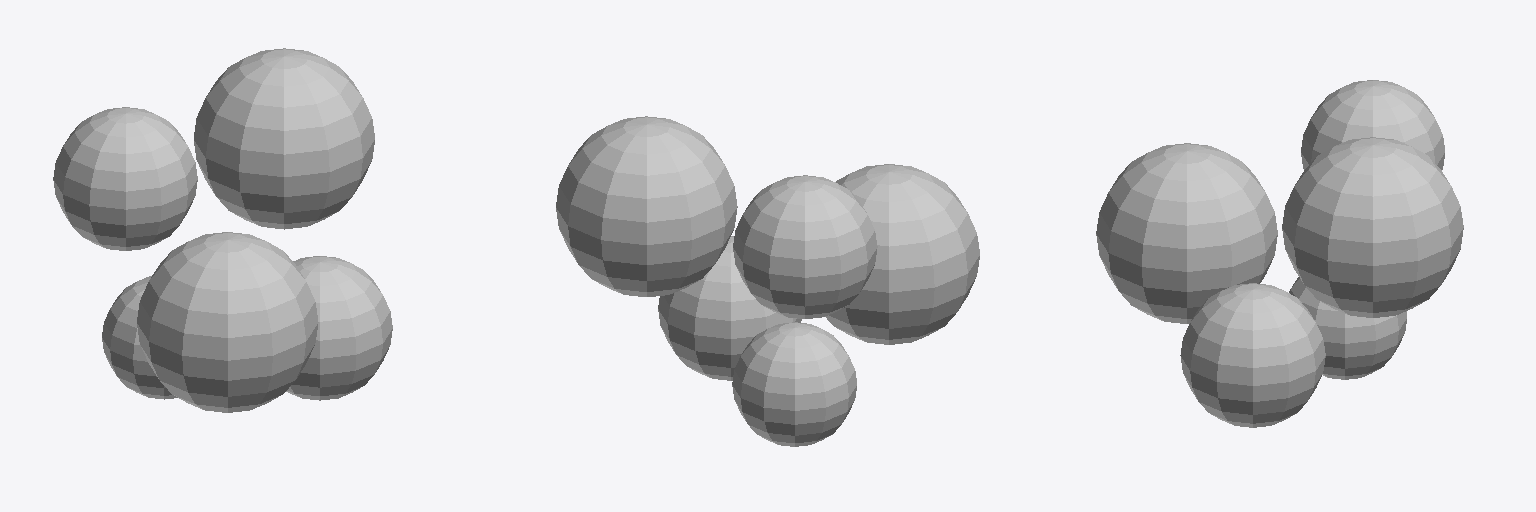
File: Jumbo_Jelly.obj
The picture shows the model from 3 angles: view 1: azimuth 30°, elevation 25°; view 2: azimuth 150°, elevation 25°; view 3: azimuth 270°, elevation 25°; orthographic projection.
Parts seen in each view (by area): view 1: Jumbo_Jelly; view 2: Jumbo_Jelly; view 3: Jumbo_Jelly.
Part boxes in pixels (left/top/right/bottom): Jumbo_Jelly: left=53, top=48, right=392, bottom=412; Jumbo_Jelly: left=556, top=116, right=979, bottom=446; Jumbo_Jelly: left=1096, top=80, right=1463, bottom=427.
Size of the model in its own units: 6.23 by 5.7 by 6.45.